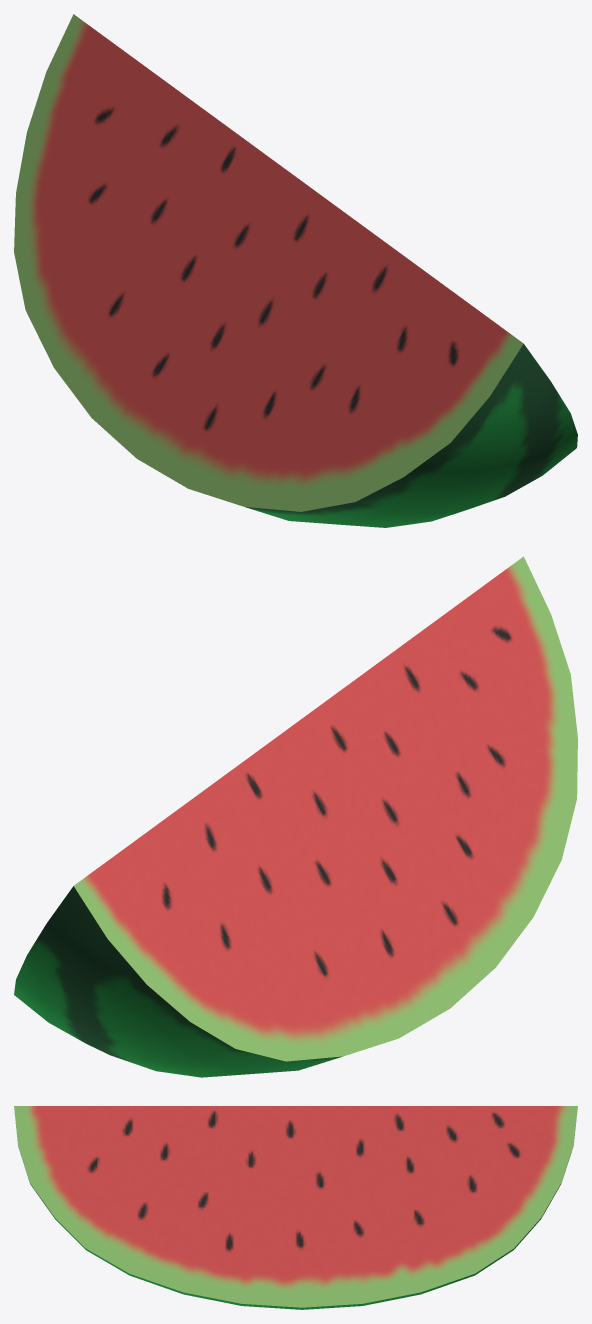
The model's file is WaterMelon_BigSlice.fbx.
3 renders of one model, top to bottom at view 1: azimuth 30°, elevation 25°; view 2: azimuth 150°, elevation 25°; view 3: azimuth 270°, elevation 25°, orthographic. The views are drawn at different scales.
Visible parts, largest first — view 1: Sphere.005; view 2: Sphere.005; view 3: Sphere.005.
Boxes of the visible parts, bbox=[...] form: Sphere.005: bbox=[14, 14, 577, 527]; Sphere.005: bbox=[14, 556, 577, 1077]; Sphere.005: bbox=[14, 1106, 577, 1309].
Size of the model in its own units: 108 by 97.22 by 269.
